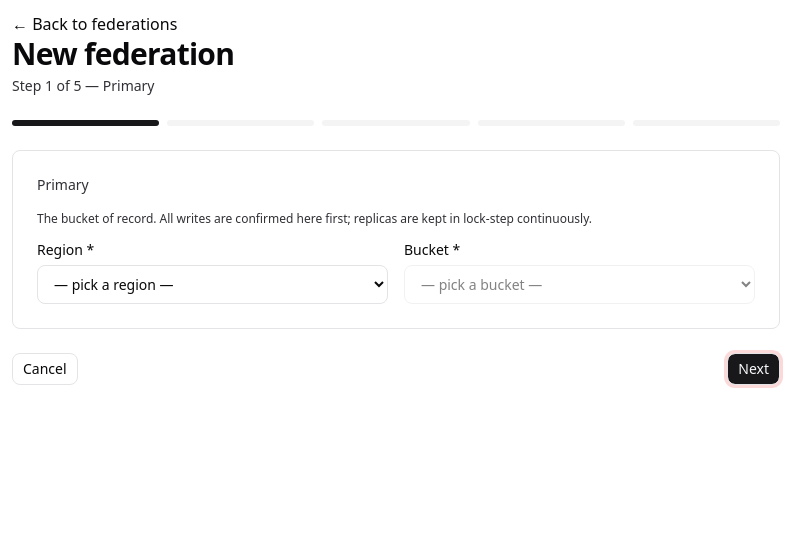
Test: NewFederationPage (/files/federated-buckets/new) › flags a duplicate (region, bucket) pair between primary + replica and blocks Next
The width and height of the screenshot is (800, 545).
Select "home" in the dropdown labelled "Region *" at (212, 284), box [37,265,388,304]
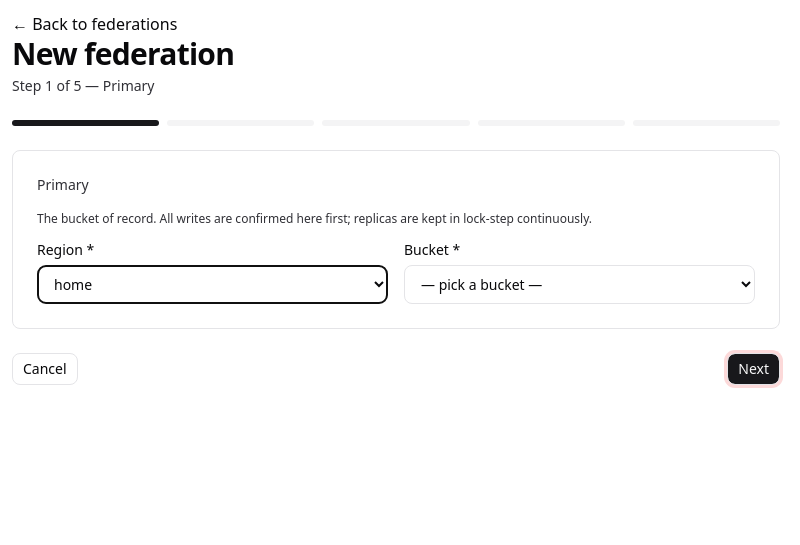
Select "photos" in the dropdown labelled "Bucket *" at (580, 284), box [404,265,755,304]
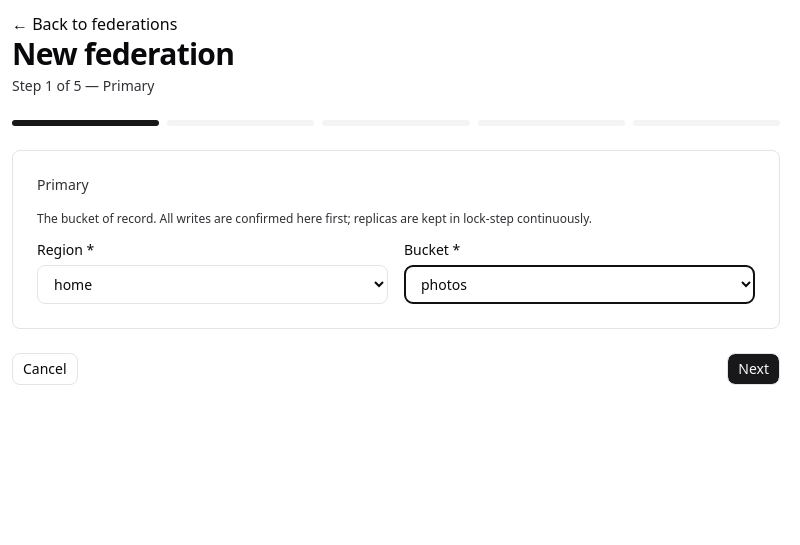
Click the button "Next" at (754, 369), box [727,353,780,385]
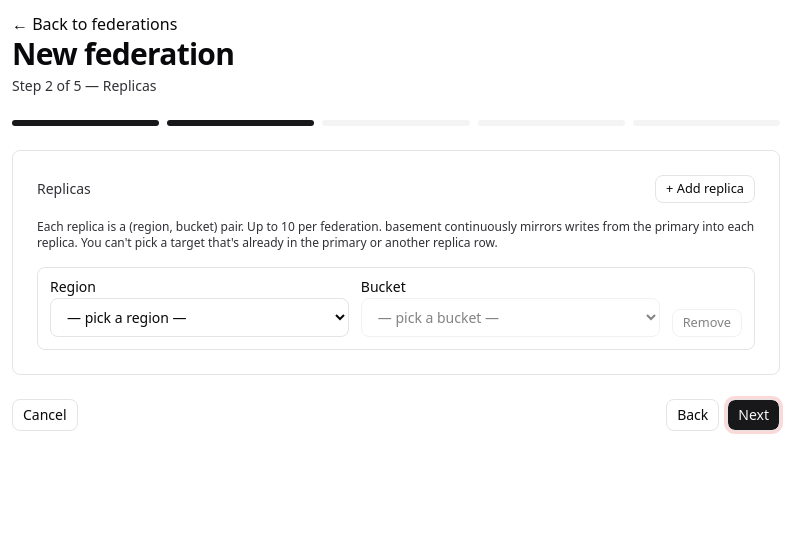
Select "home" in the dropdown labelled "Region" at (199, 318), box [50,298,349,337]
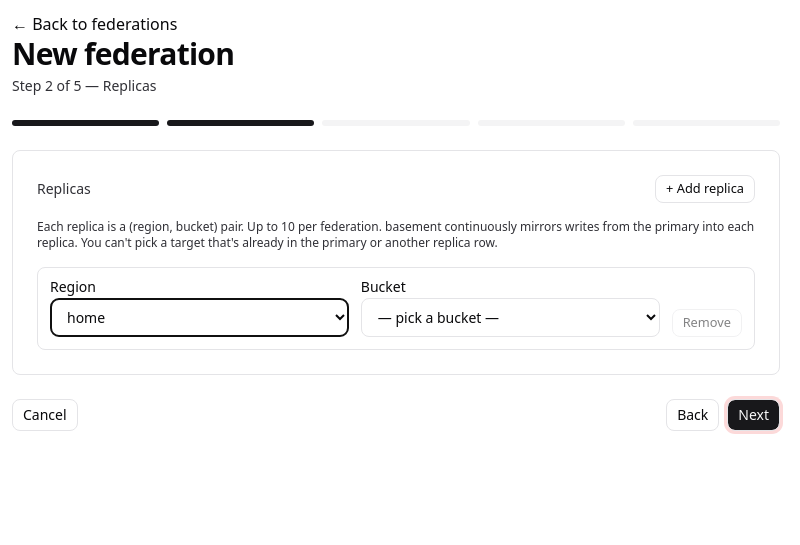
Select "photos (already in use)" in the dropdown labelled "Bucket" at (510, 318), box [361,298,660,337]
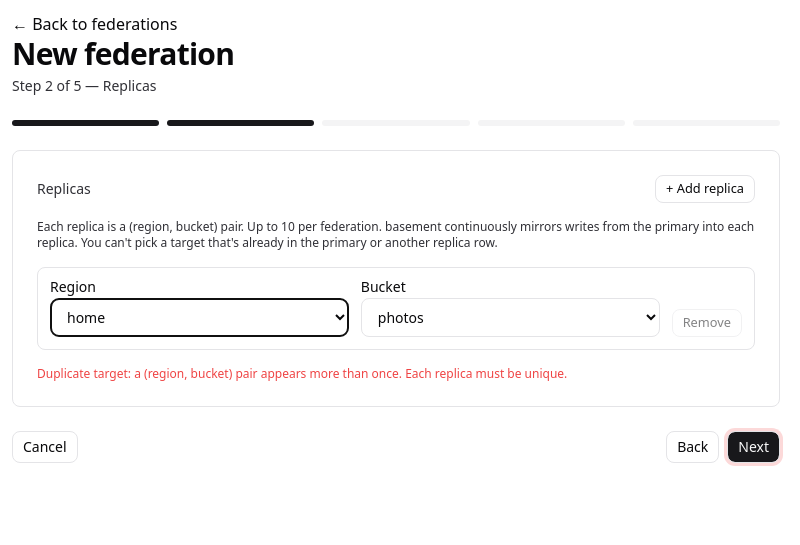
Expected: the text with test id "duplicate-replica-warning" is shown, [37,365,567,382]
Click the button "Next" at (754, 447), box [727,431,780,463]
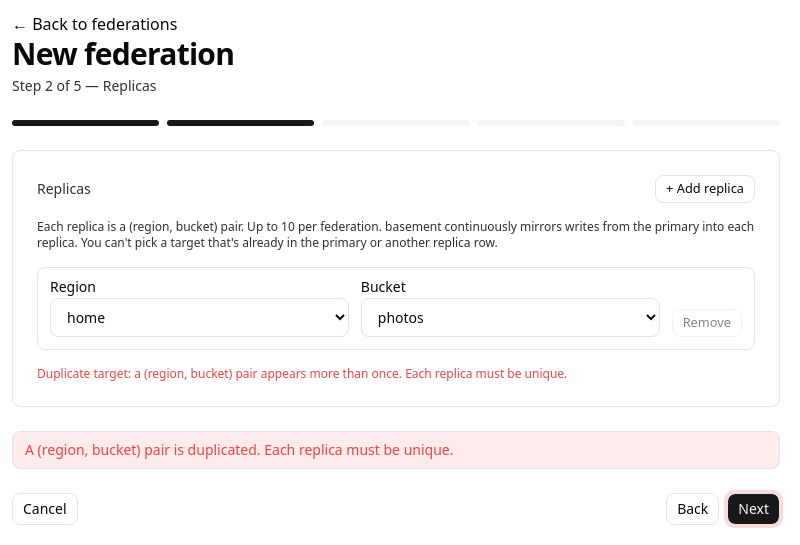
Expected: the text "Step 2 of 5 — Replicas" is shown, [12,76,156,95]
Expected: the message with test id "step-error" shows "duplicated", [25,440,454,459]
